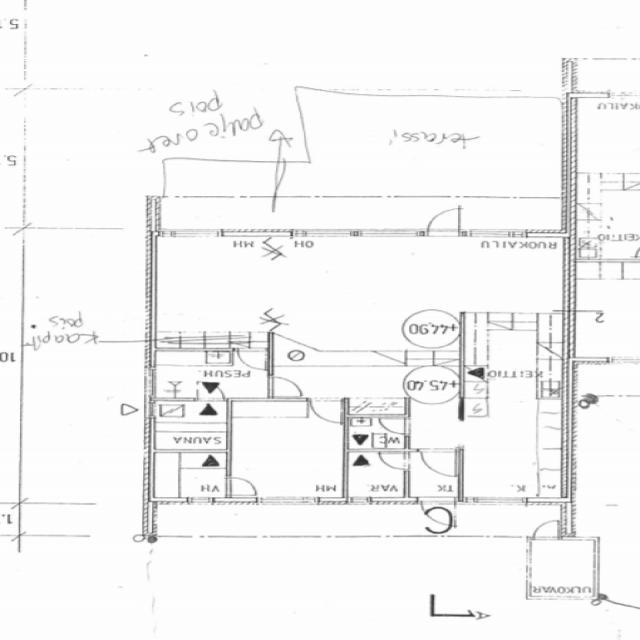door: (416, 446, 463, 479), (423, 205, 465, 238), (306, 396, 347, 426), (420, 498, 455, 531), (266, 374, 307, 400), (222, 474, 260, 500), (234, 347, 271, 372), (374, 449, 412, 472), (529, 518, 562, 542), (376, 414, 412, 436)
window: (222, 227, 293, 244), (353, 226, 422, 241), (256, 494, 321, 509), (468, 495, 530, 509), (294, 227, 356, 240), (164, 228, 223, 241), (464, 228, 526, 240), (570, 88, 612, 100), (186, 496, 214, 507)
zone: (227, 399, 345, 502), (156, 234, 282, 330), (567, 260, 640, 360), (150, 348, 273, 401), (569, 95, 640, 176), (571, 180, 640, 262), (525, 538, 599, 601), (149, 398, 230, 453), (148, 452, 230, 502), (344, 450, 408, 501), (345, 415, 409, 452)
